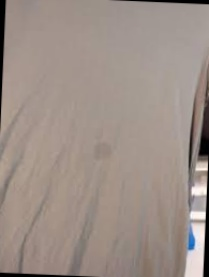oil: (84, 131, 119, 165)
